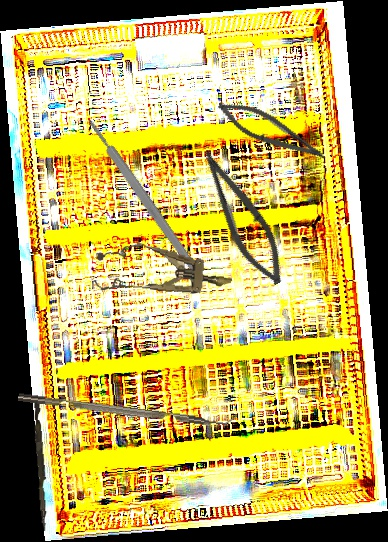Chopper: (17, 382, 237, 432)
Micro Scissor: (185, 144, 298, 293), (212, 94, 332, 167)
Pusher: (30, 399, 52, 532)
Scalpel Handle: (85, 116, 205, 281)
Speculum: (91, 237, 235, 309)
